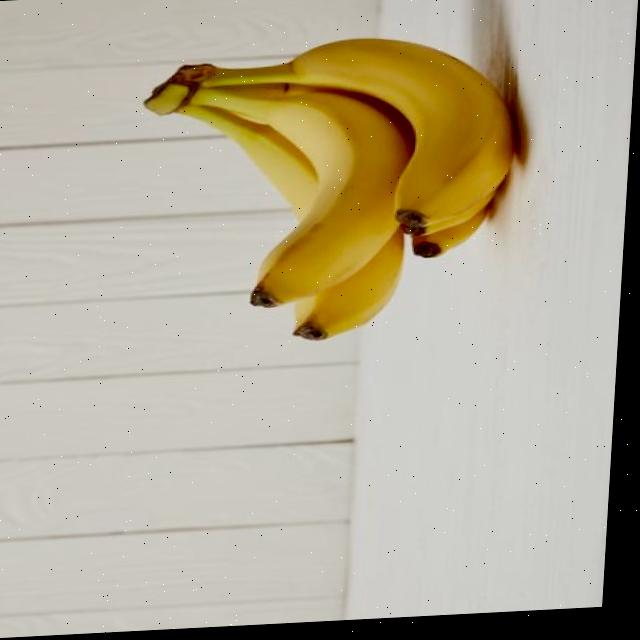banana: (118, 26, 534, 353)
